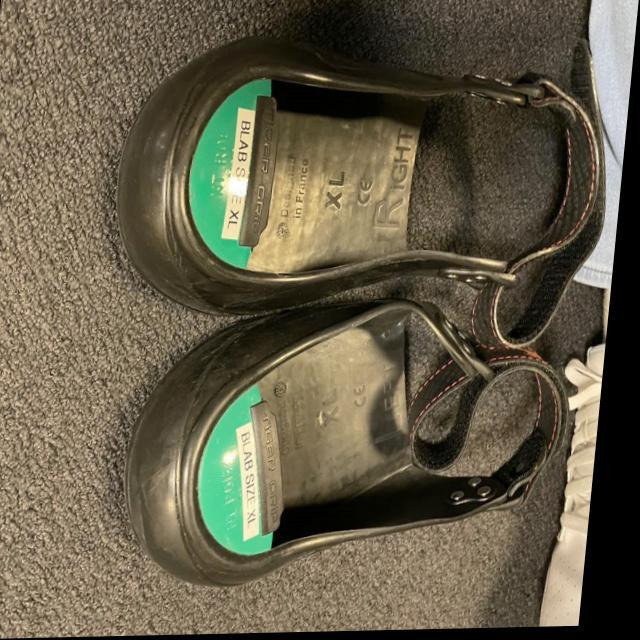shoes: (105, 30, 600, 313), (136, 319, 569, 589)
